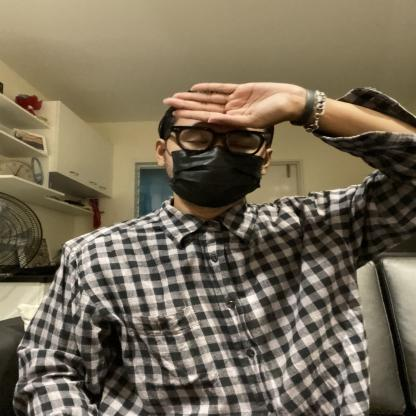Sick: (63, 67, 351, 190)
